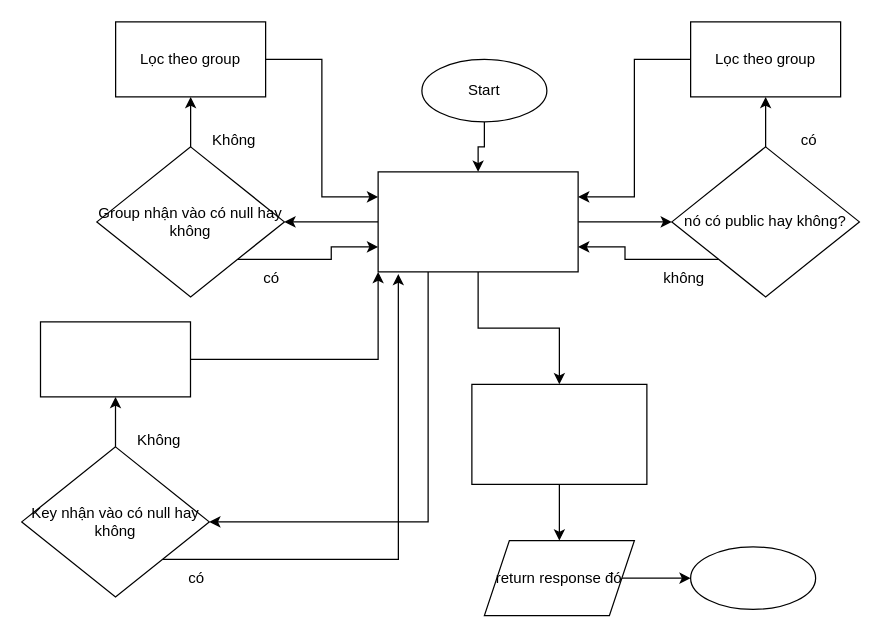
Image size: 883x638. Some labels were removed from this diagram. The centre of each missing label's shape, as x and y in pixels:
End: the point at 752,577
Lọc theo key: the point at 114,359
map sang response mà mình muốn trả về: the point at 559,433
Tìm tất cả những config chưa bị xóa, và có kind là content: the point at 477,221
